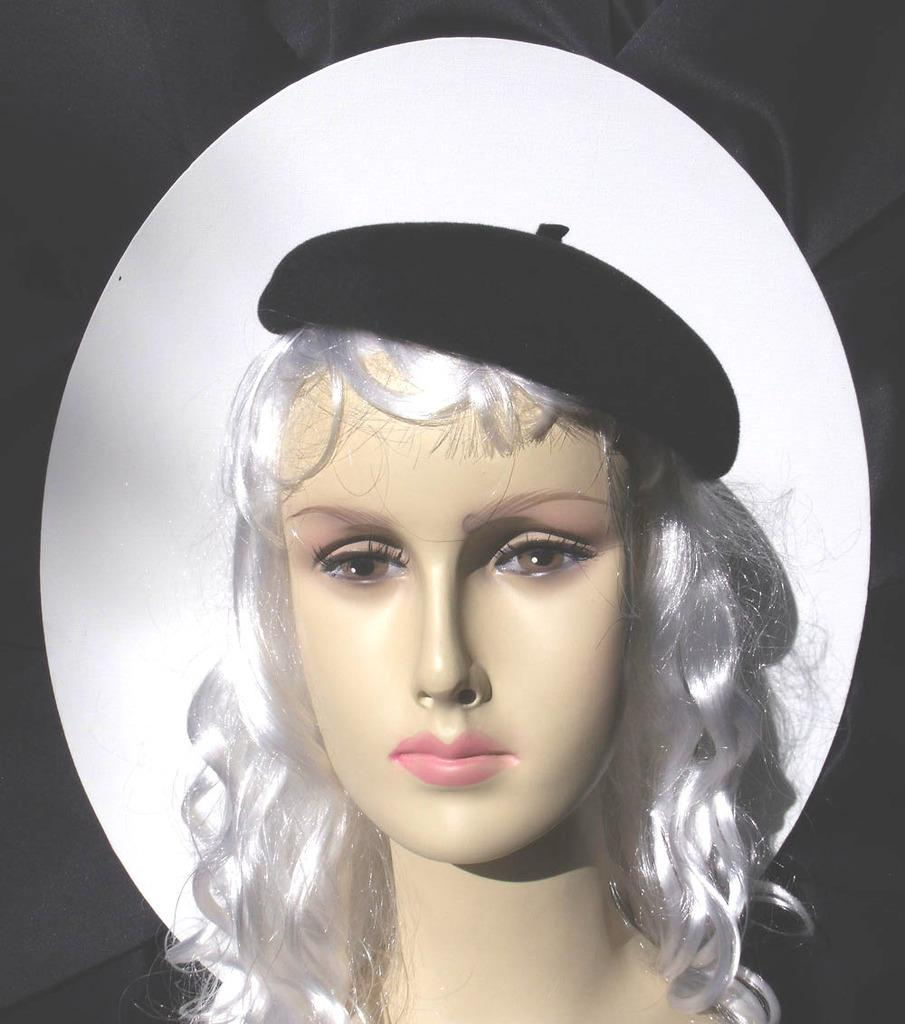Hat: (256, 220, 742, 480)
